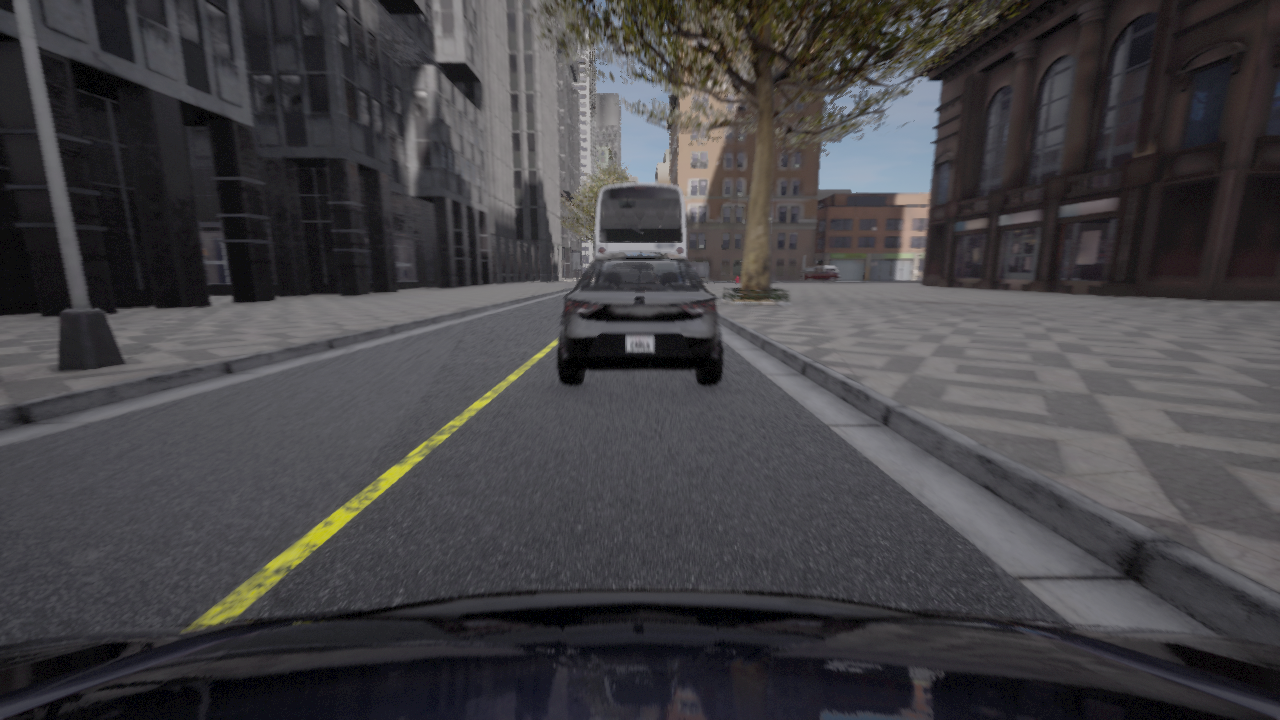cyclist: (0, 588, 1279, 719), (557, 251, 722, 383), (595, 183, 686, 258), (800, 266, 839, 282)
